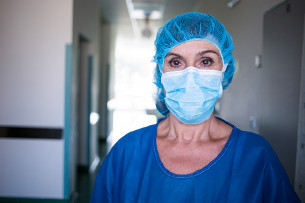face_mask: (162, 43, 220, 121)
